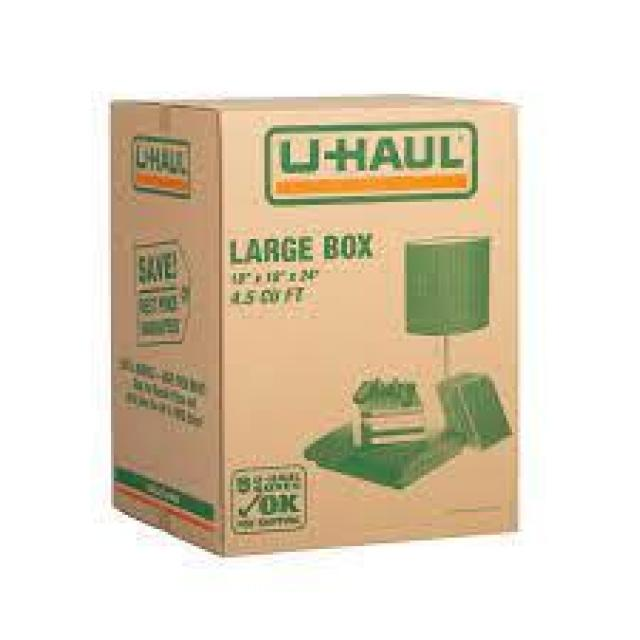box: (109, 94, 519, 555)
